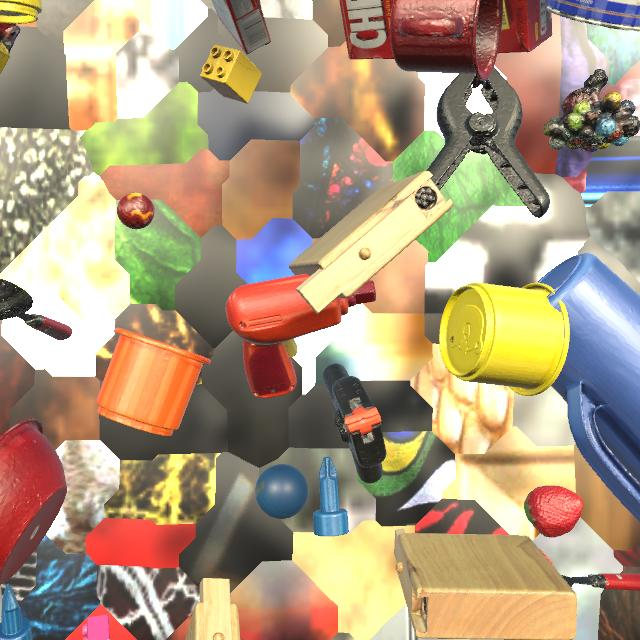ycb_002_master_chef_can: (544, 0, 640, 31)
ycb_003_cracker_box: (339, 0, 552, 60)
ycb_009_gelatin_box: (211, 0, 271, 54)
ycb_012_strawberry: (524, 485, 583, 538)
